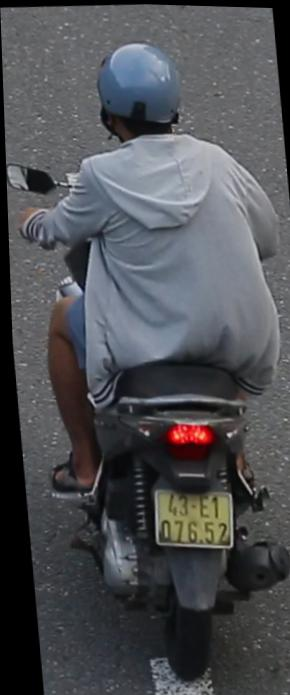LP: (142, 479, 236, 556)
helmet: (89, 33, 194, 165)
